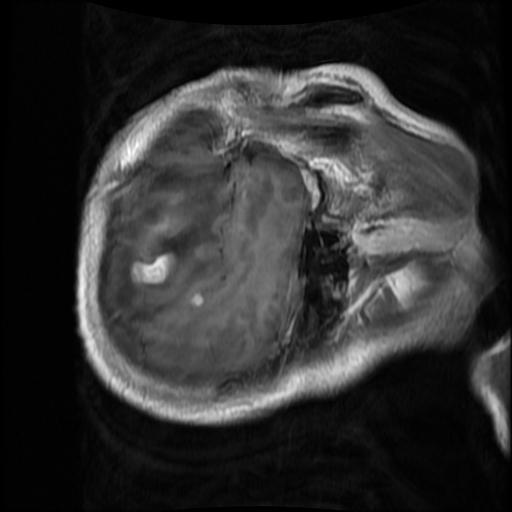glioma: (129, 252, 178, 286)
